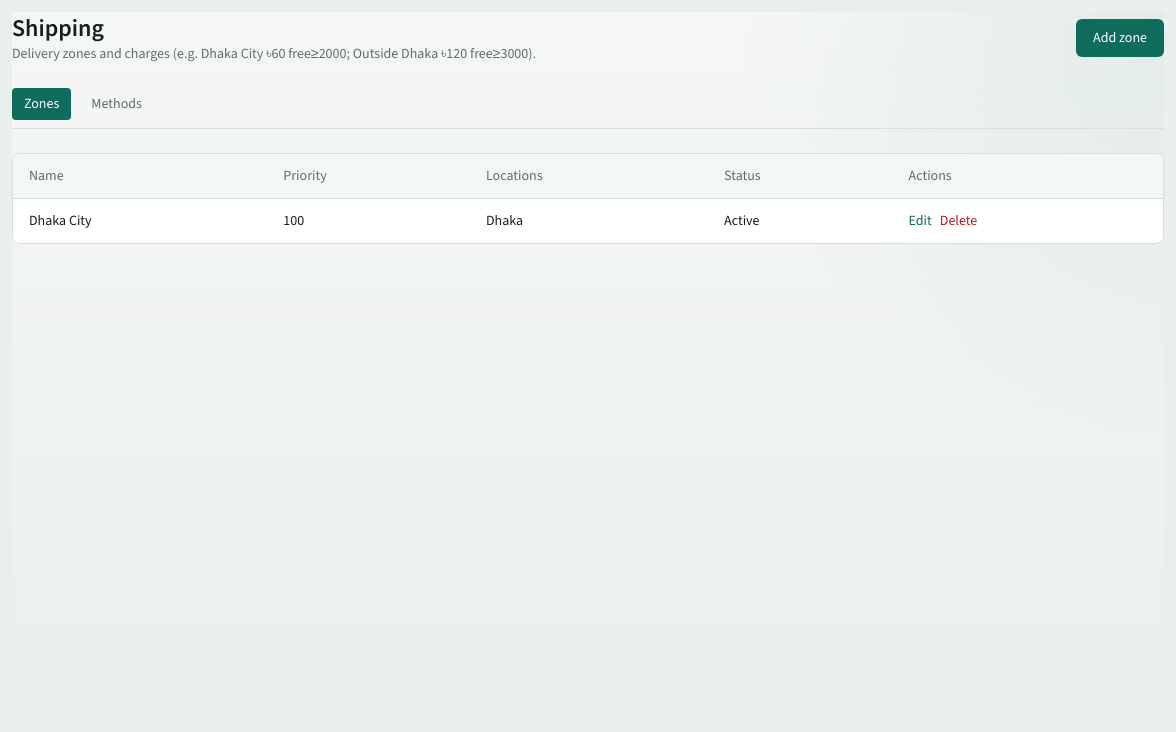
Test: Shipping dashboard › opens zone create form for managers
The width and height of the screenshot is (1176, 732).
Expected: the text "Dhaka City" is shown, [13, 198, 267, 243]
Click the button "Add zone".
click(1120, 38)  # box [1076, 19, 1164, 57]
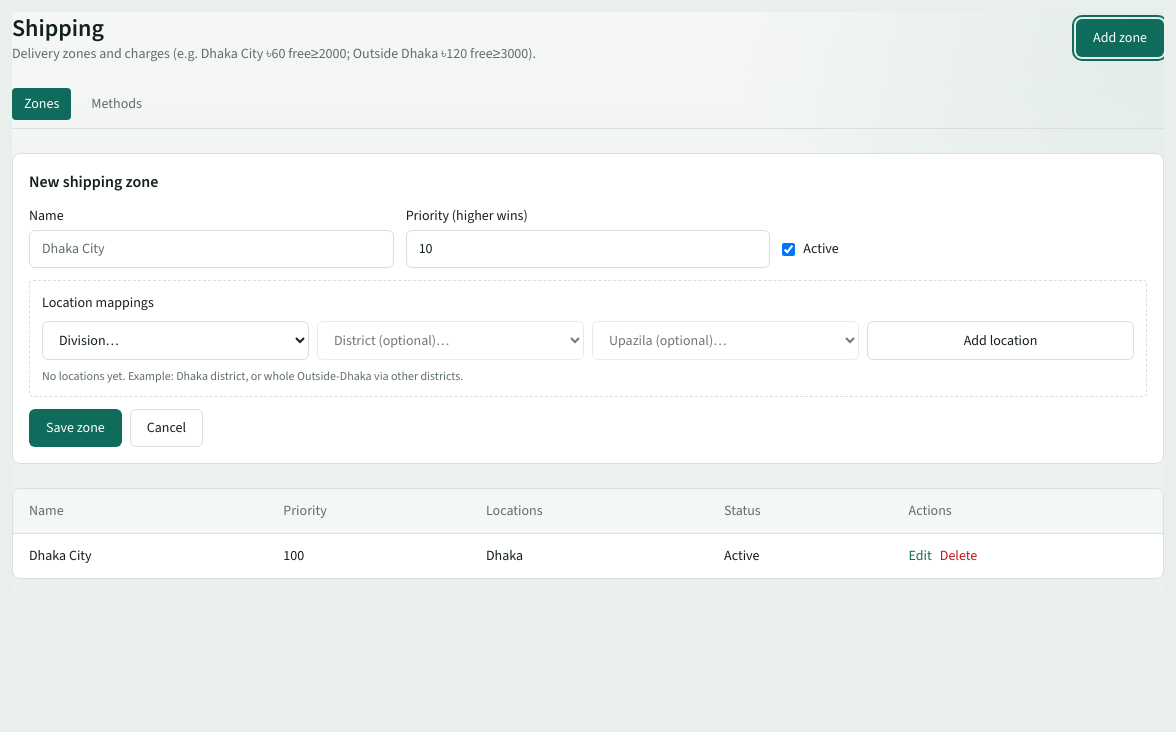
Expected: the heading "New shipping zone" is shown, [29, 171, 158, 192]
